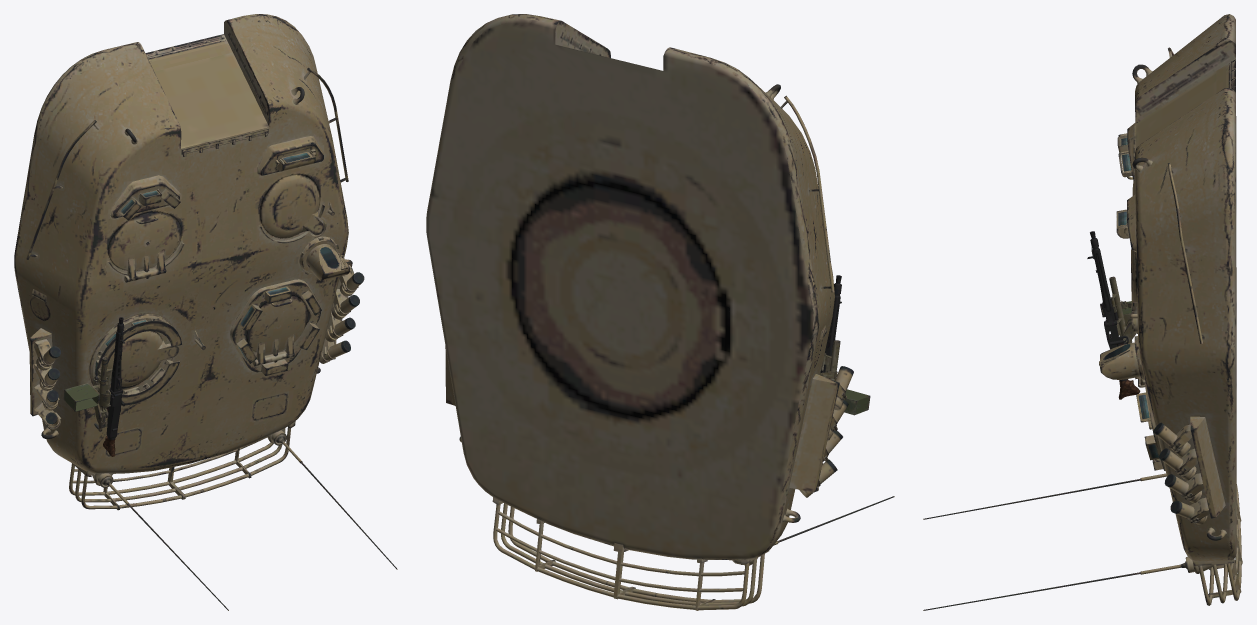
File: Turret_02.glb
3 renders of one model, left to right at view 1: azimuth 30°, elevation 25°; view 2: azimuth 150°, elevation 25°; view 3: azimuth 270°, elevation 25°, orthographic. The views are drawn at different scales.
Visible parts, largest first — view 1: set_0_group_0; view 2: set_0_group_0; view 3: set_0_group_0.
Part boxes in pixels (bbox=[...]): set_0_group_0: bbox=[14, 14, 397, 610]; set_0_group_0: bbox=[426, 14, 894, 610]; set_0_group_0: bbox=[923, 14, 1242, 610].
Size of the model in its own units: 2.75 by 3.76 by 2.13.
Materials: 1 (1 with a texture image).
